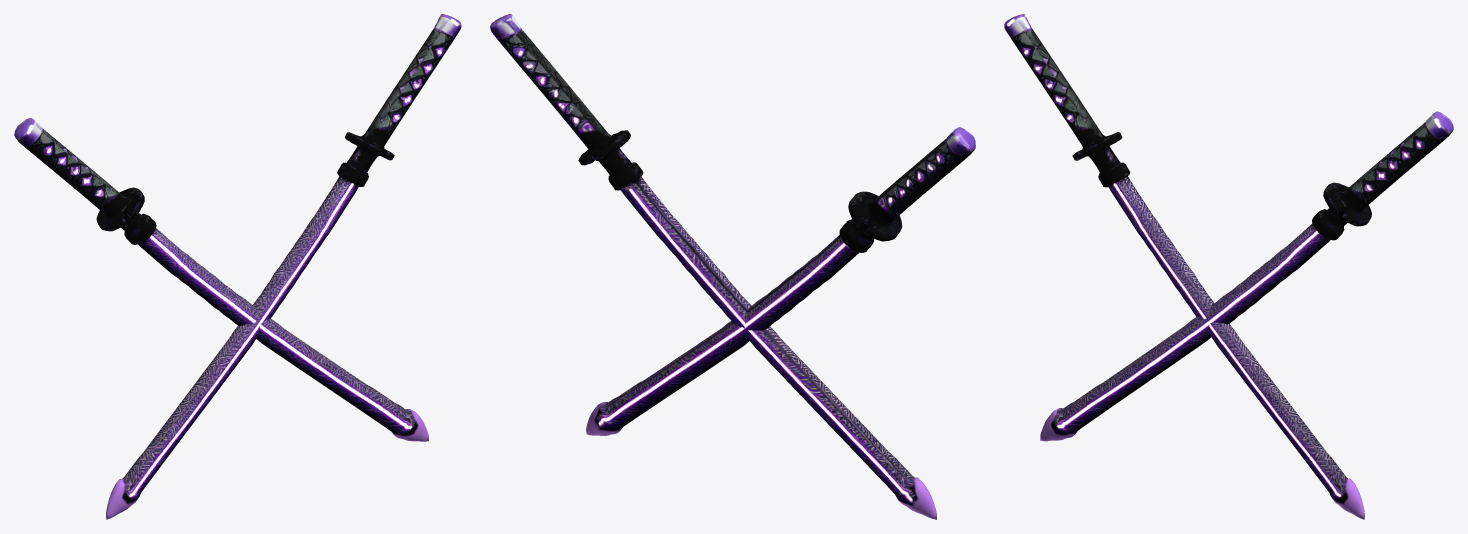
Rendered from Sword_low.glb.
3 views of the same model, side by side, from view 1: azimuth 30°, elevation 25°; view 2: azimuth 150°, elevation 25°; view 3: azimuth 330°, elevation 25° (orthographic). The views are drawn at different scales.
Visible parts, largest first — view 1: Sword_low; view 2: Sword_low; view 3: Sword_low.
Part boxes in pixels (<box>): Sword_low: <box>14,14,461,519</box>; Sword_low: <box>490,14,975,519</box>; Sword_low: <box>1004,14,1453,519</box>.
Size of the model in its own units: 0.815 by 0.6921 by 0.1158.
Materials: 1 (1 with a texture image).
